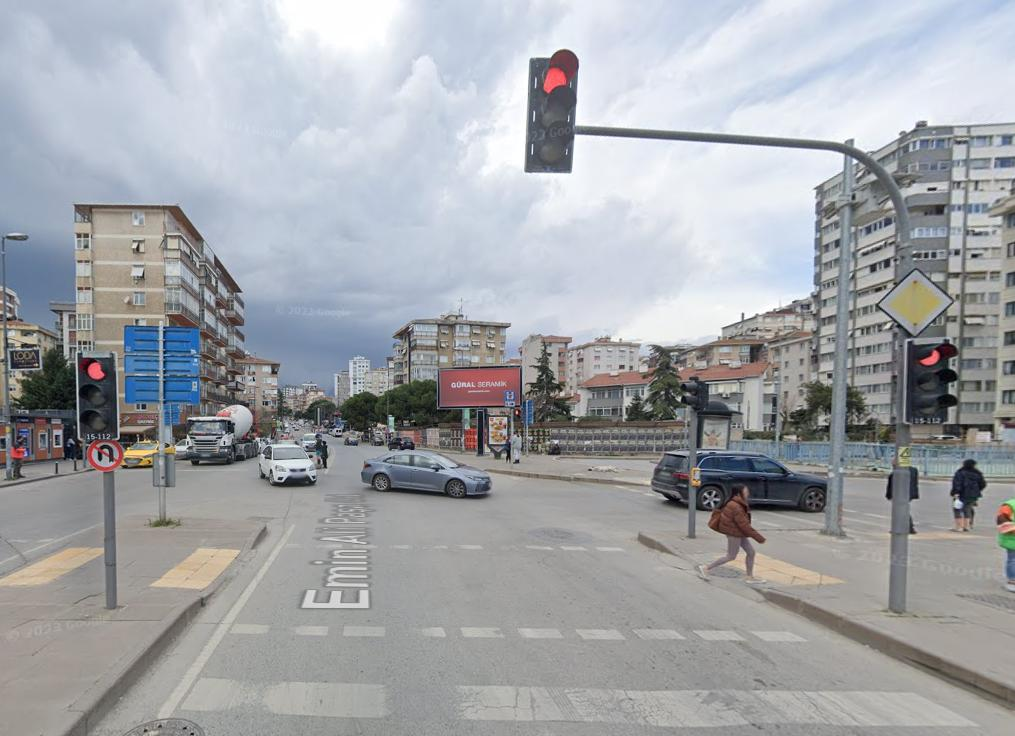redlight: (529, 53, 577, 172), (902, 332, 953, 429), (69, 349, 123, 439)
